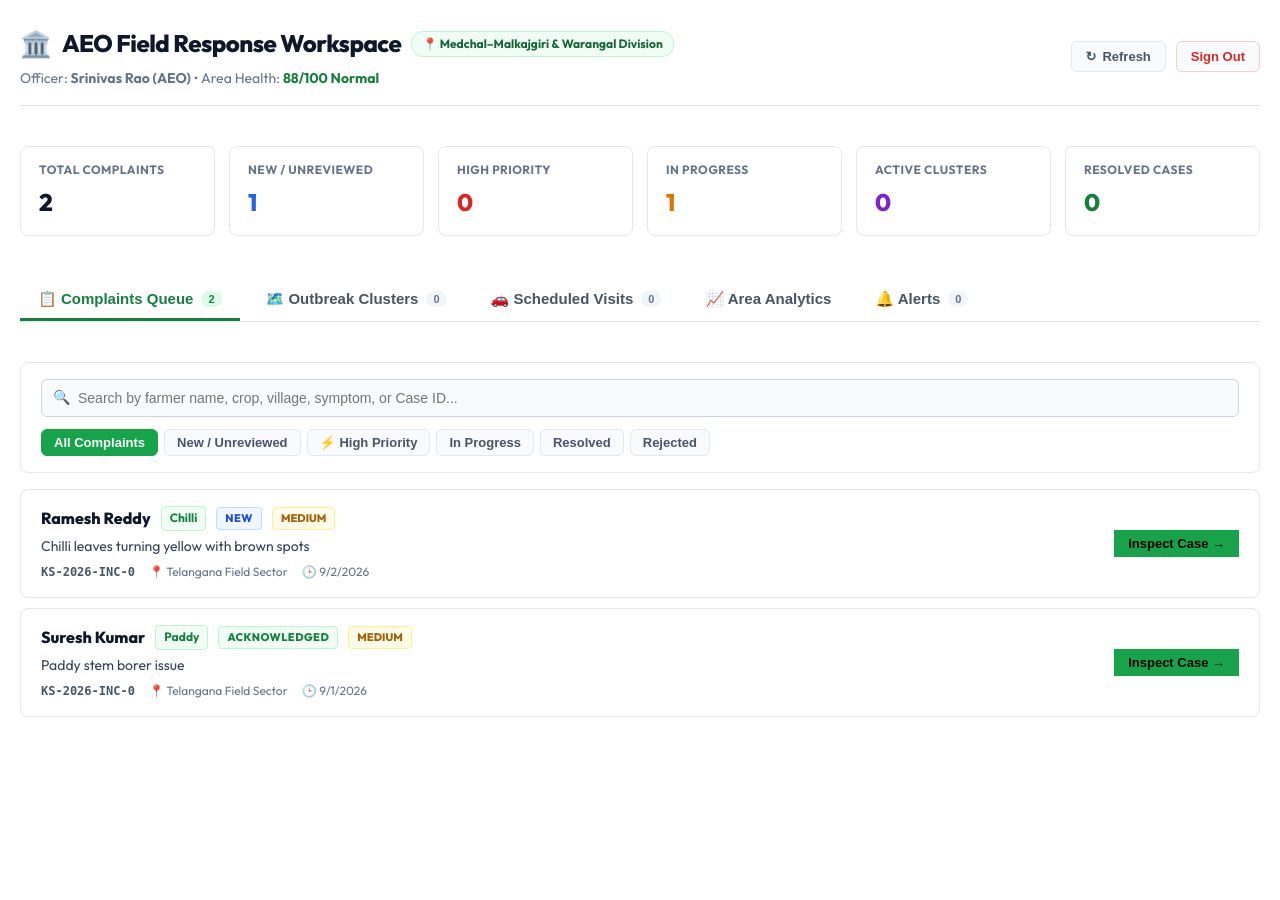
Test: Phase: AEO Officer Workflow Tests › handles Reject action with reason modal and updates incident status
Click the button with test id "view-details-btn-inc-001-aaaa". click: (1177, 544)
box: [1114,530,1239,557]
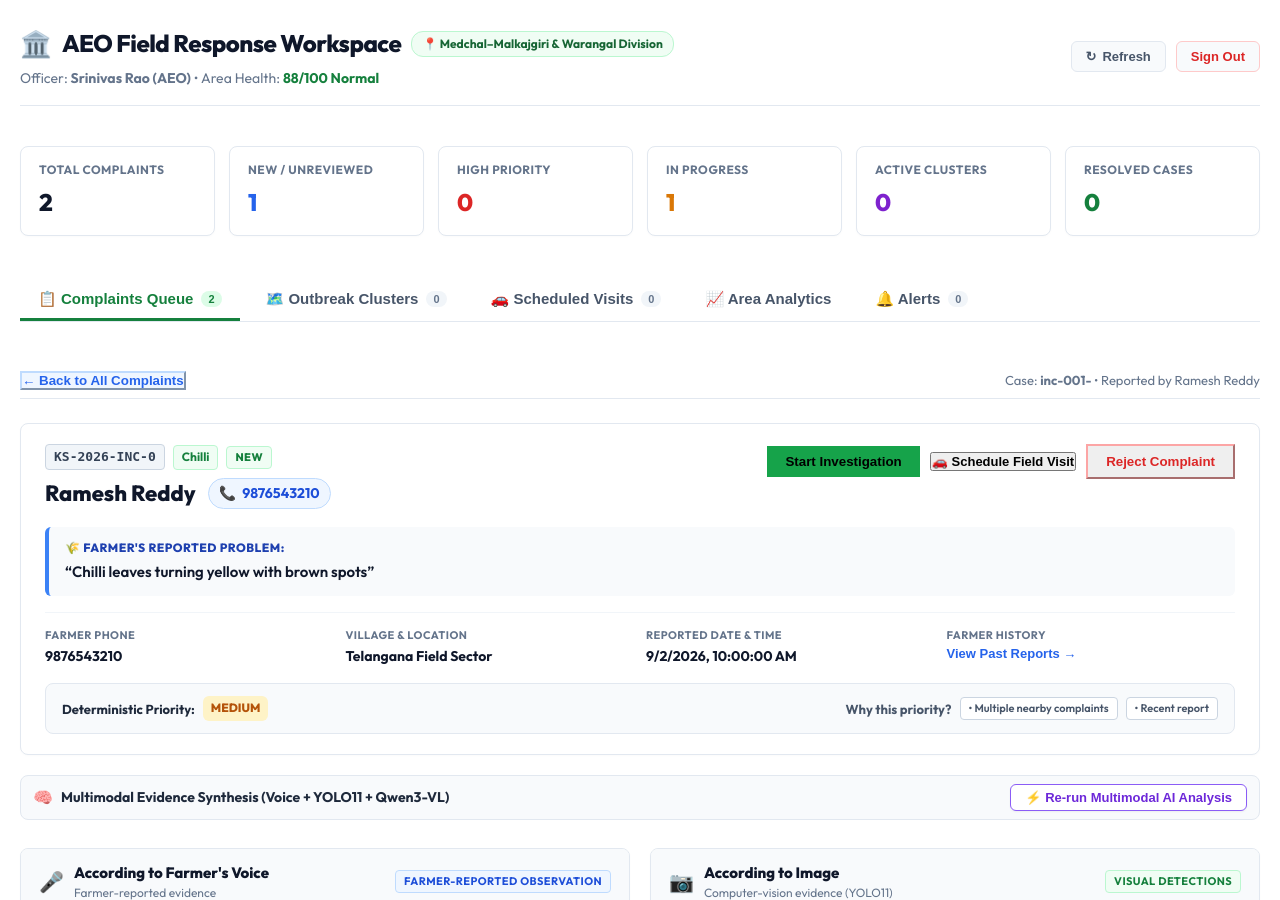
Check: the button with test id "reject-incident-btn" is shown
# Click reject button to open modal
Click the button with test id "reject-incident-btn". click: (1161, 462)
box: [1086,444,1235,479]
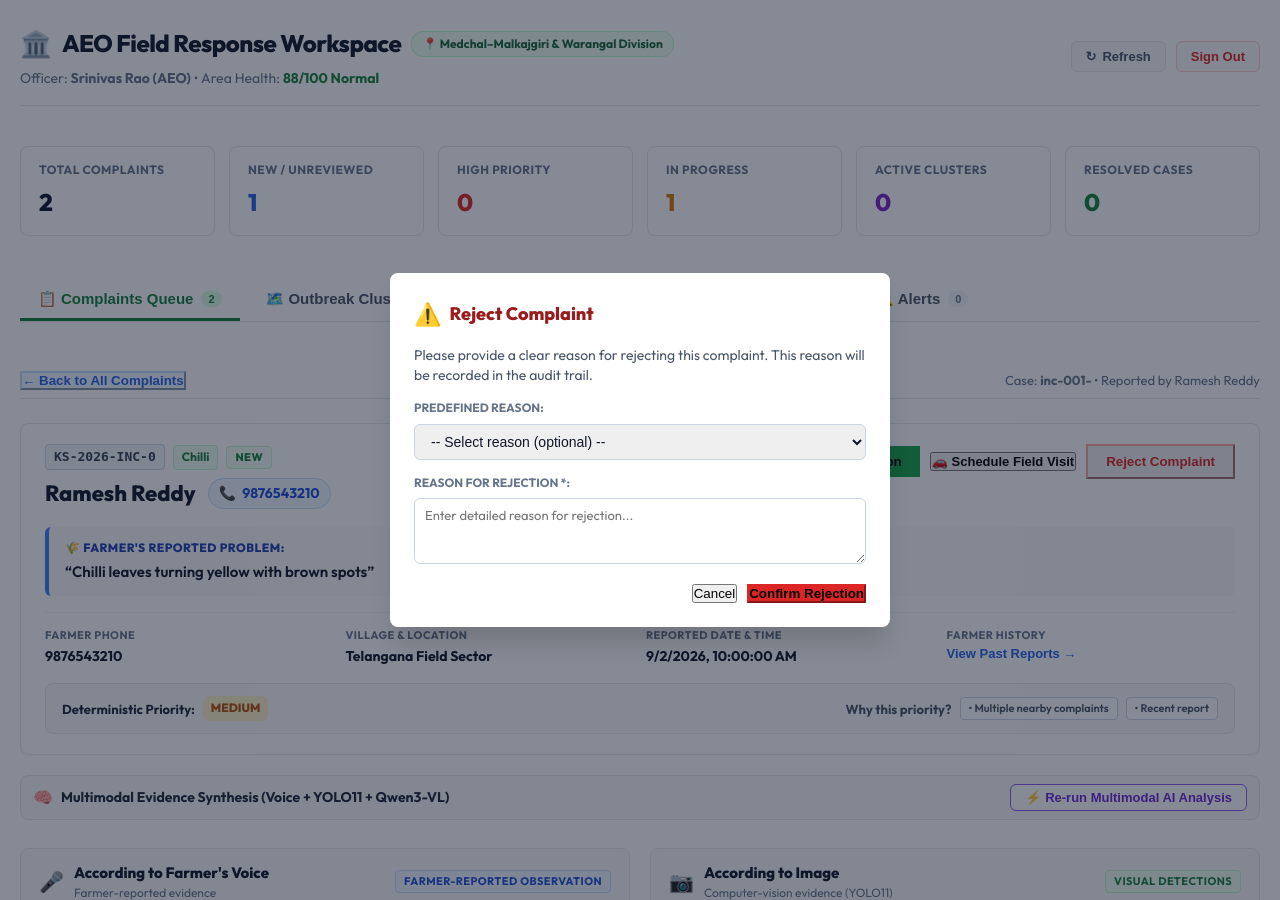
Check: the element with test id "rejection-modal" is shown
Click the button with test id "confirm-rejection-btn". click: (807, 594)
box: [747,584,866,603]
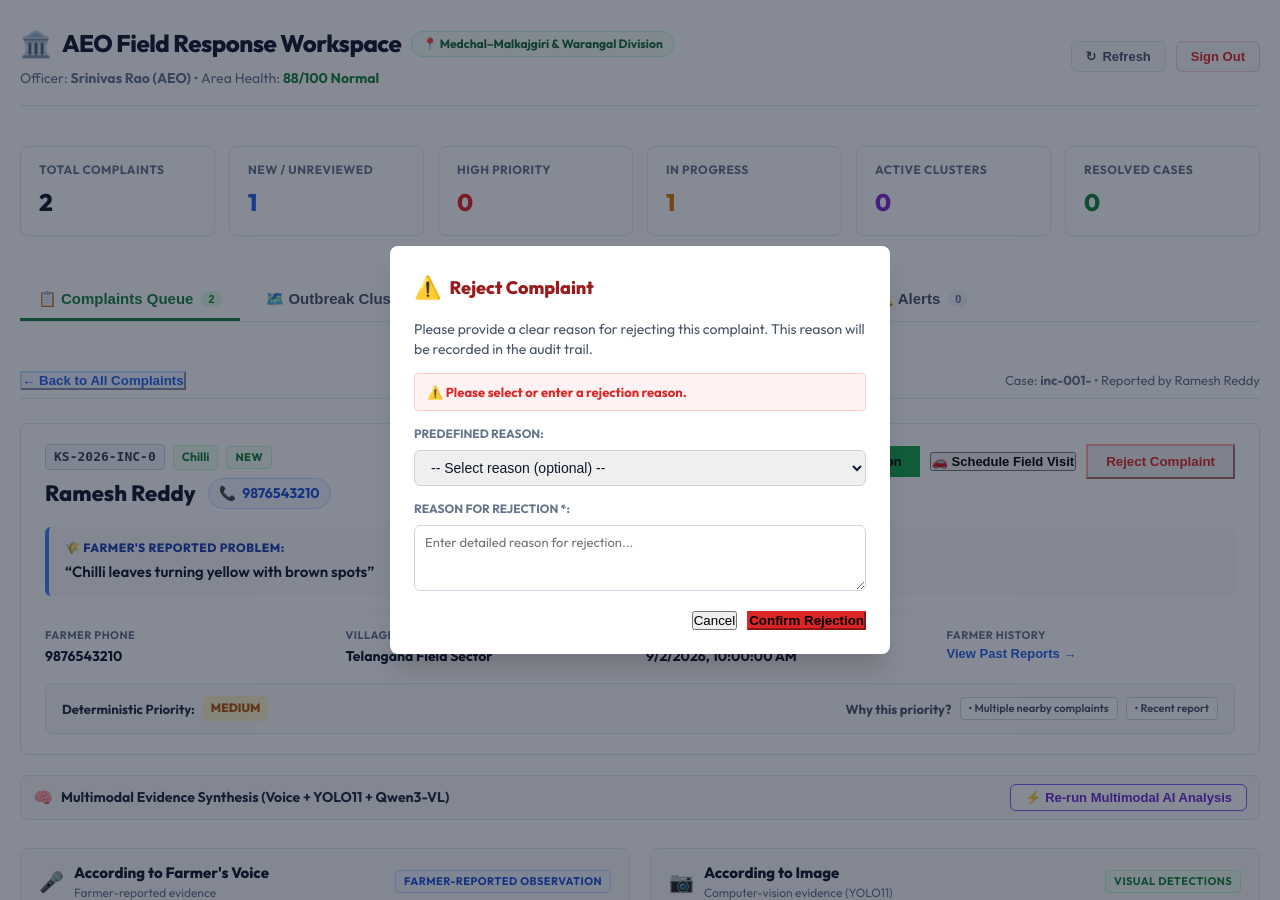
Check: the text "⚠️ Please select or enter a rejection reason." is shown, box [414,373,866,411]
# Enter valid reason
Type "Photo does not appear to show a crop" into the text box with test id "rejection-reason-input". click: (640, 558)
box: [414,524,866,590]
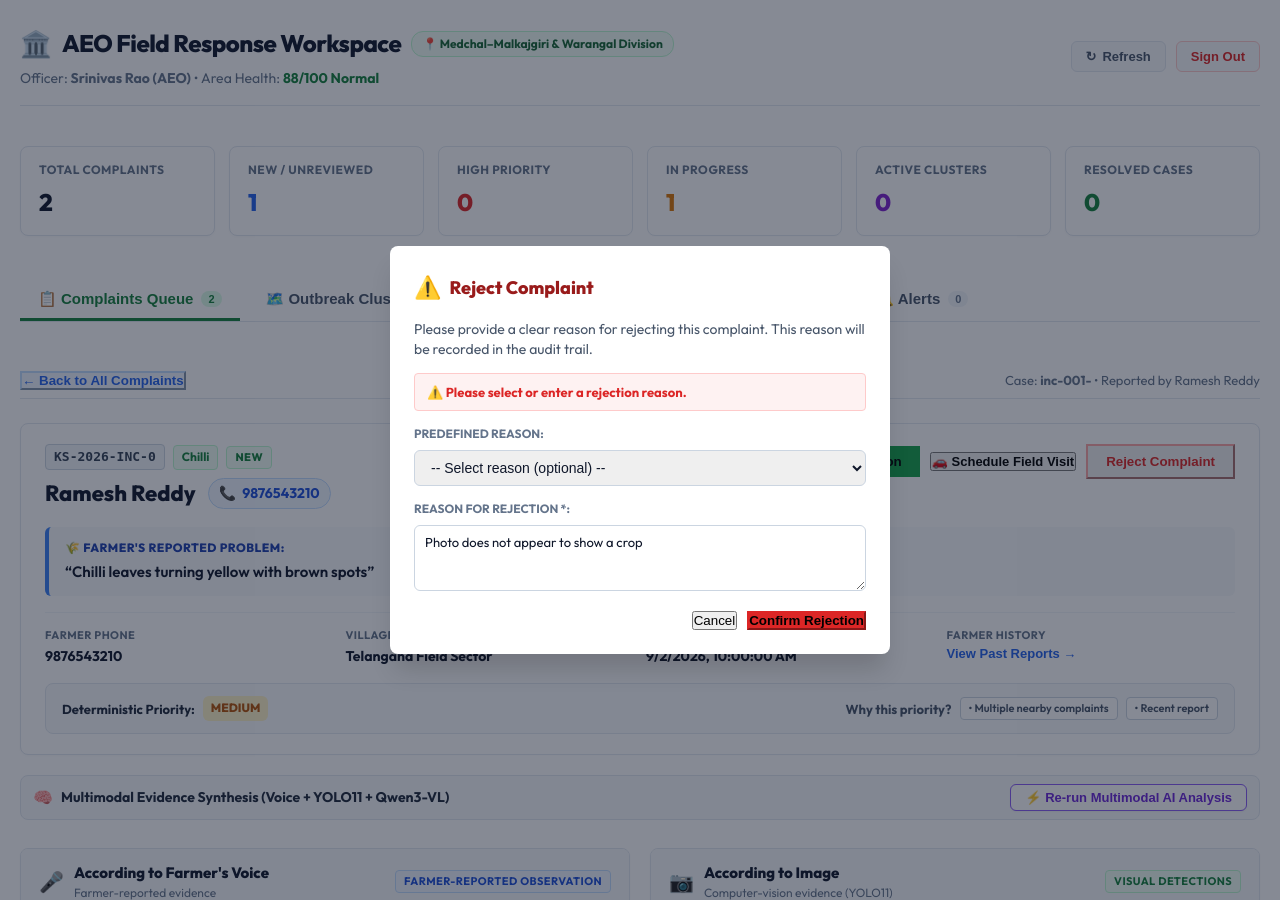
Click the button with test id "confirm-rejection-btn". click: (807, 620)
box: [747,610,866,630]
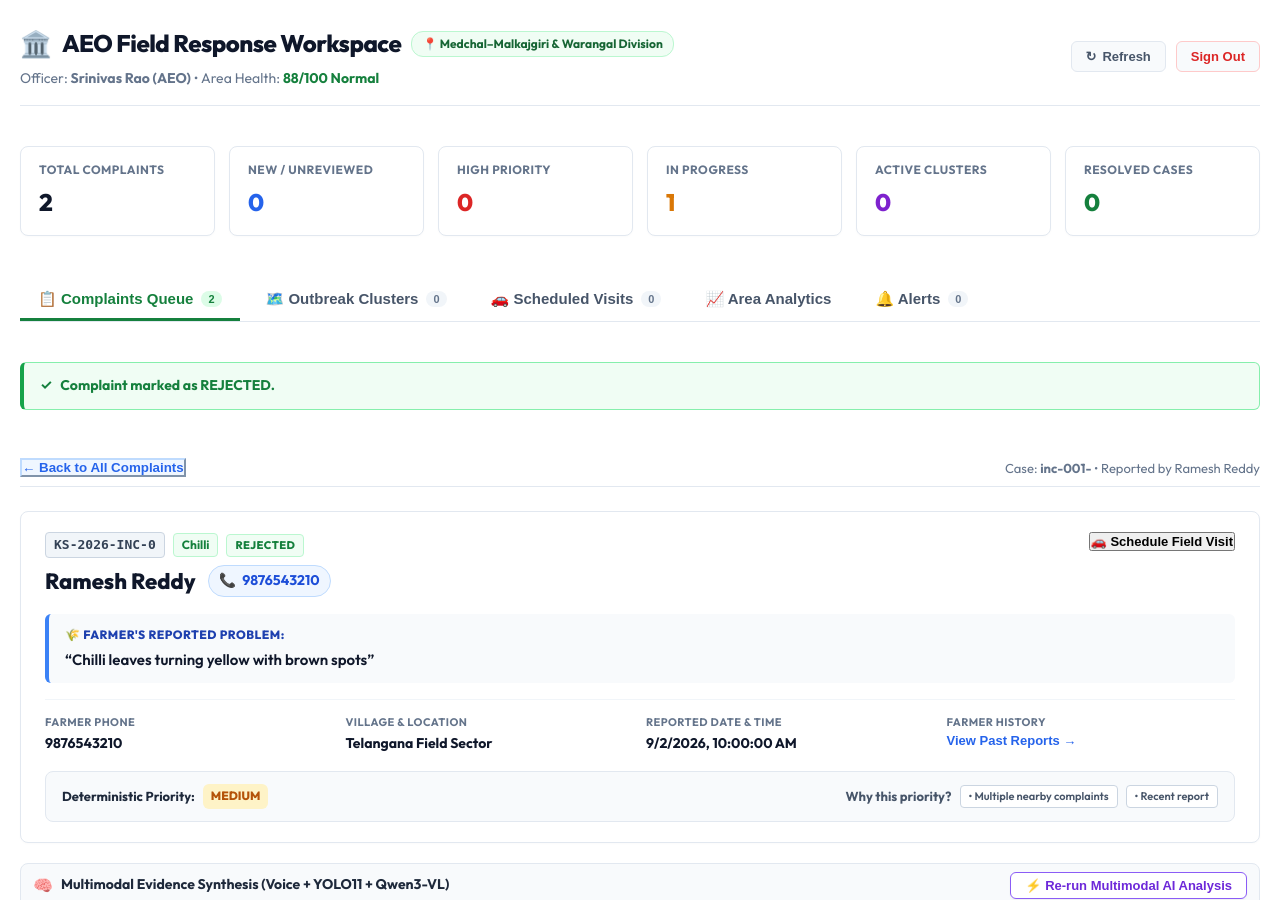
Check: the text "✓ Complaint marked as REJECTED." is shown, box [20,362,1260,410]
